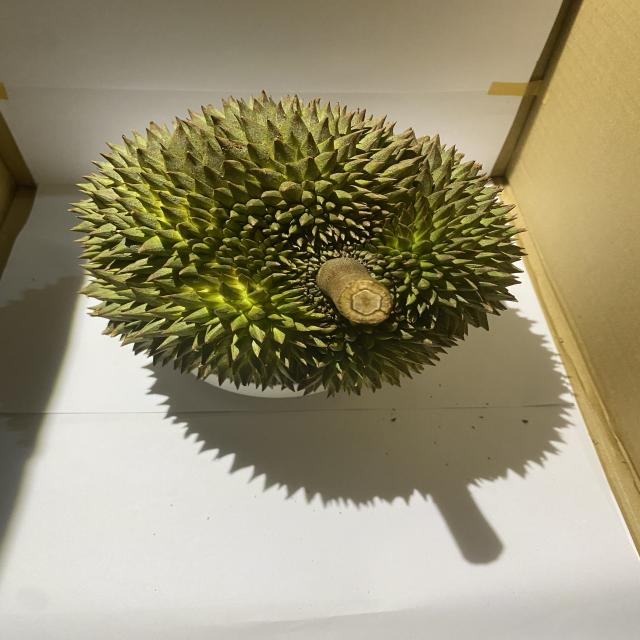immature: (65, 89, 530, 401)
